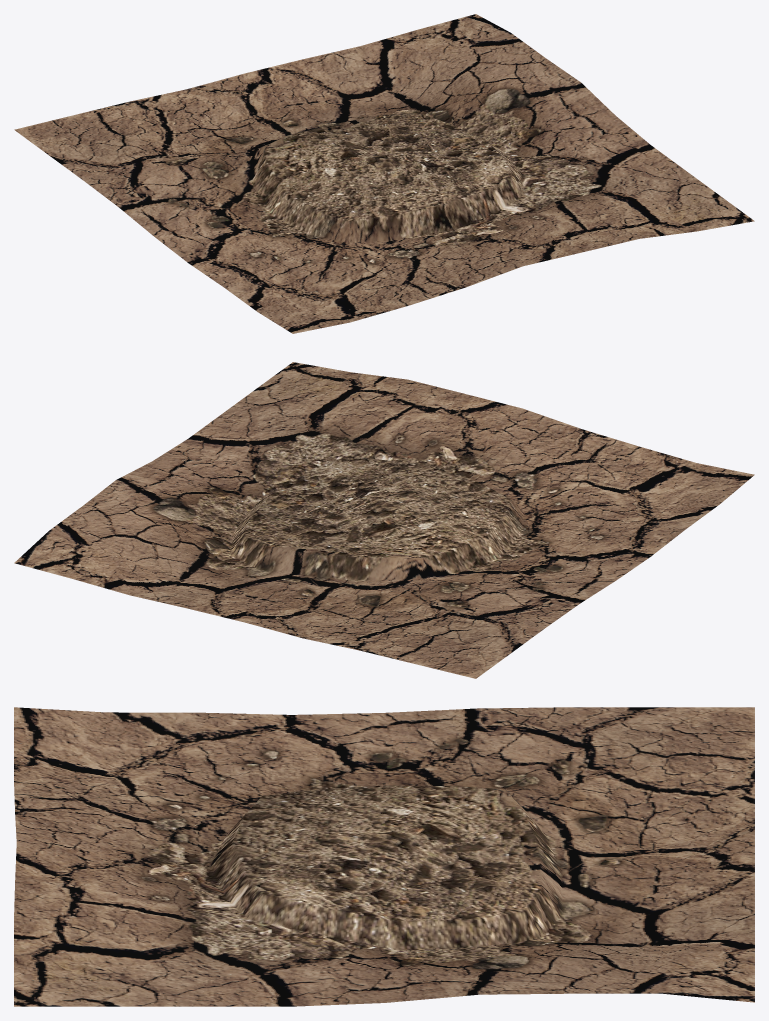
The model's file is Covered_Dirt.fbx.
3 renders of one model, top to bottom at view 1: azimuth 30°, elevation 25°; view 2: azimuth 150°, elevation 25°; view 3: azimuth 270°, elevation 25°, orthographic. The views are drawn at different scales.
Visible parts, largest first — view 1: Soil_Covered; view 2: Soil_Covered; view 3: Soil_Covered.
Boxes of the visible parts, x1,y1,x2,y2 form: Soil_Covered: (14, 14, 754, 333); Soil_Covered: (14, 362, 754, 678); Soil_Covered: (14, 707, 754, 1006).
Size of the model in its own units: 110 by 6.43 by 115.
